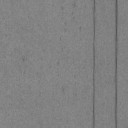surface scratch: (92, 0, 96, 128), (114, 0, 118, 126)
